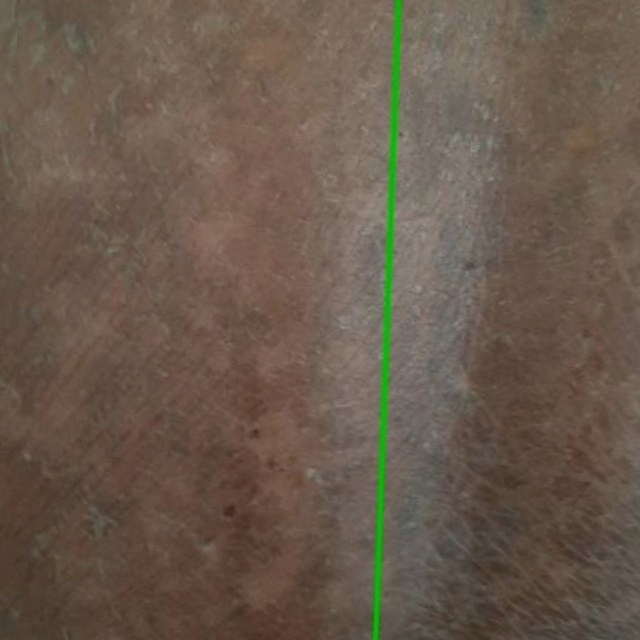Seborrheic Dermatitis: (375, 0, 639, 639)
